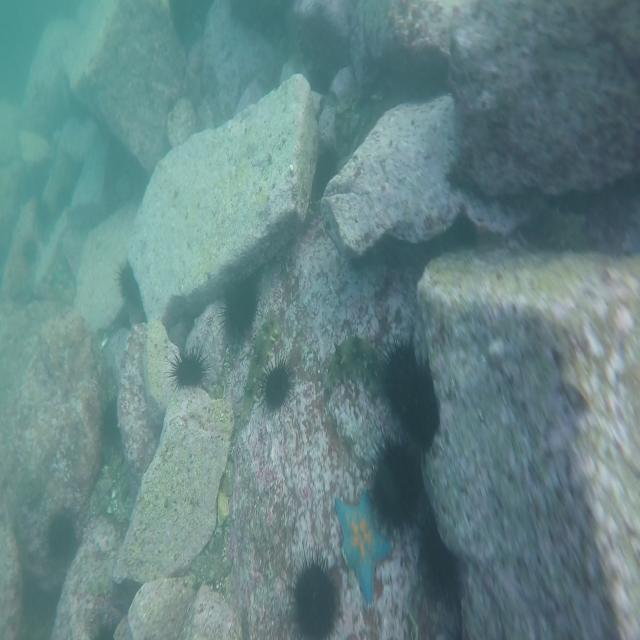echinus: (366, 433, 425, 532), (288, 551, 342, 640), (420, 514, 467, 612), (402, 366, 439, 435), (386, 342, 422, 407), (254, 357, 294, 413), (162, 346, 205, 390), (46, 510, 79, 555), (97, 391, 125, 442), (115, 262, 143, 309), (18, 233, 41, 270)
holothurian: (324, 332, 386, 394), (534, 202, 594, 254)
starfish: (332, 483, 396, 608)
